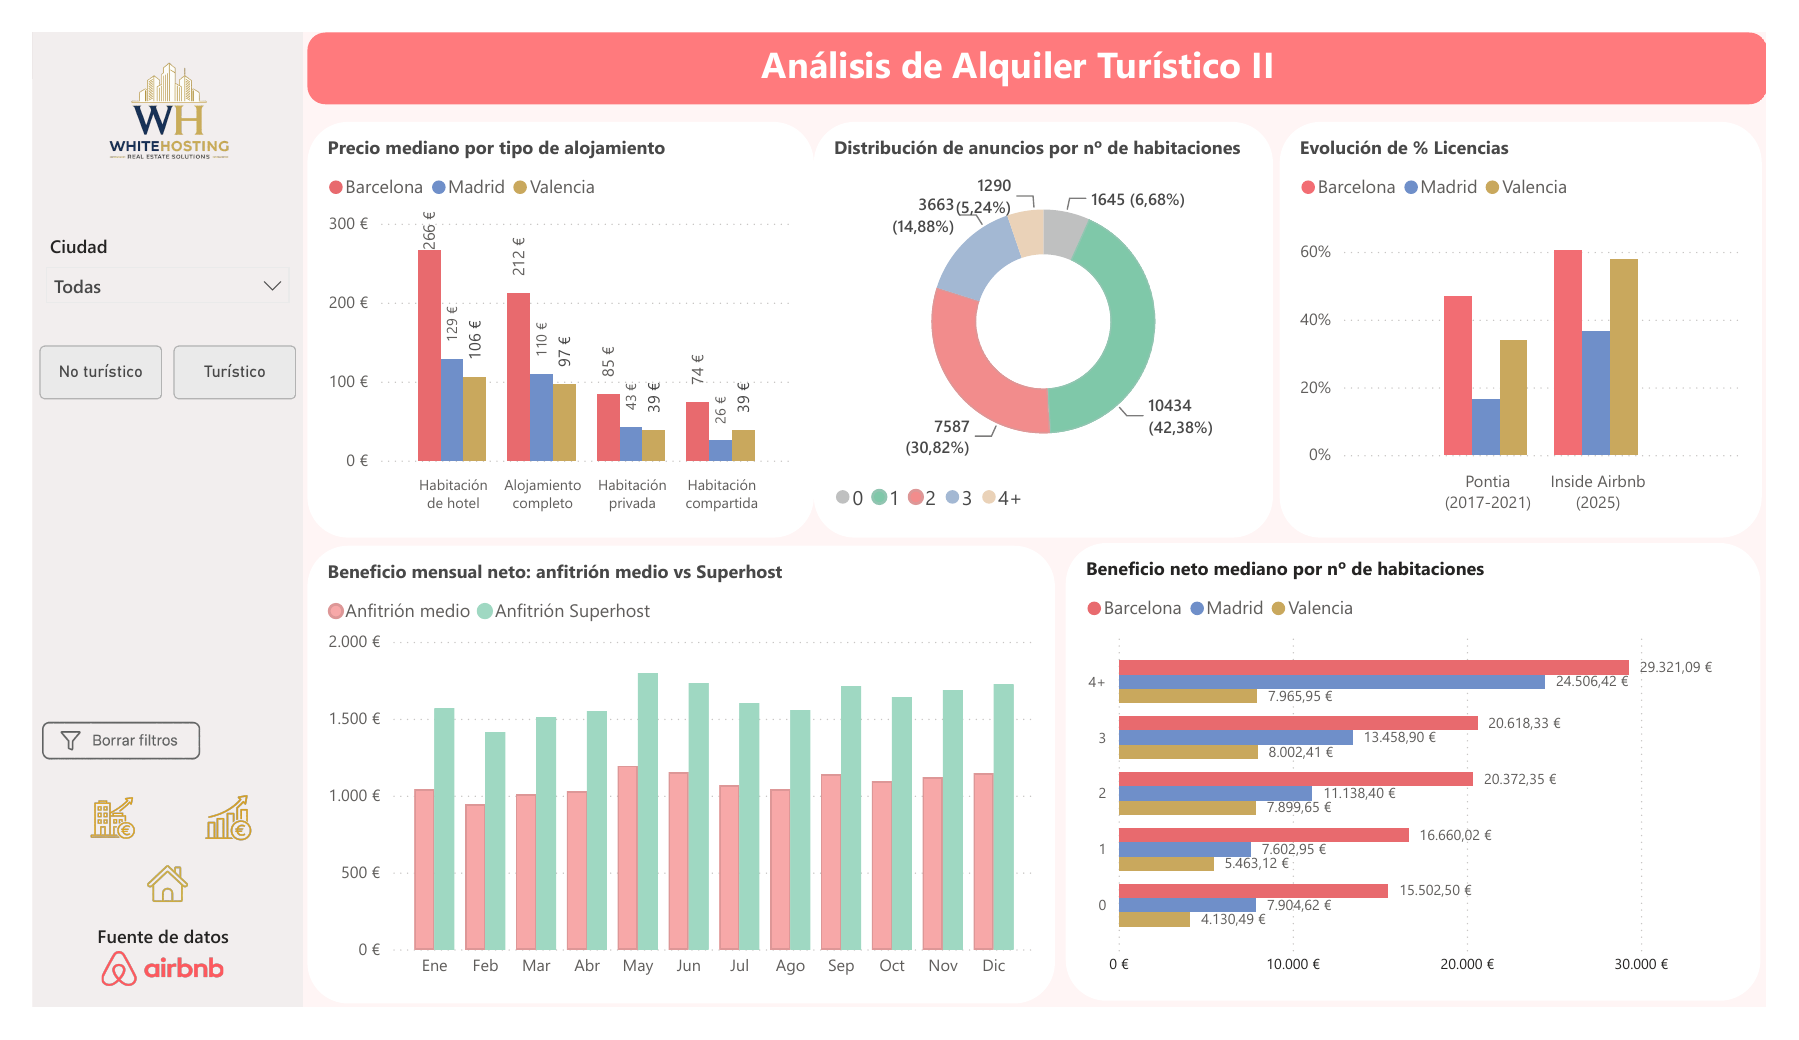

The dashboard page shown, as its layout file describes it:
{"tool":"powerbi","page":{"name":"Alquiler II","canvas":[1280,720],"ordinal":5},"visuals":[{"type":"shape","box":[203.1,0,1077.4,52.7],"z":0},{"type":"clusteredColumnChart","title":"Precio mediano por tipo de alojamiento","fields":{"Category":["precio_por_tipo_ciudad_pbi.tipo_alojamiento"],"Y":["Avg(precio_por_tipo_ciudad_pbi.precio_mediano)"],"Series":["Ciudades.Ciudad"]},"box":[202.8,66.2,374.1,306.9],"z":1000},{"type":"clusteredColumnChart","title":"Beneficio mensual neto: anfitrión medio vs Superhost","fields":{"Series":["beneficio_mensual_ciudad_pbi.escenario"],"Y":["Avg(beneficio_mensual_ciudad_pbi.monthly_revenue_net)"],"Category":["beneficio_mensual_ciudad_pbi.MesCorto"]},"box":[202.8,379.4,551.7,337.3],"z":2000},{"type":"shape","box":[0,0,200.4,720],"z":3000},{"type":"slicer","fields":{"Values":["Ciudades.Ciudad"]},"box":[0.3,144.2,200,77.1],"z":4000},{"type":"advancedSlicerVisual","fields":{"Values":["tabla_barrios_oficial_turísticos_id_mejorado.Barrio Turístico (texto)"]},"box":[0,226.3,200.4,49.9],"z":5000},{"type":"image","box":[1.2,0,199.4,131],"z":6000},{"type":"image","box":[13.9,549.6,87,61.4],"z":7000},{"type":"image","box":[99.7,549.6,89.3,64.9],"z":8000},{"type":"image","box":[52.2,583.2,96.2,95.1],"z":9000},{"type":"image","box":[51.4,678.6,90,25],"z":10000},{"type":"textbox","box":[42.9,653.8,114.3,28.6],"z":11000},{"type":"donutChart","title":"Distribución de anuncios por nº de habitaciones","fields":{"Category":["listing_precio_habitaciones_pbi.HabGrupo"],"Y":["CountNonNull(listing_precio_habitaciones_pbi.id_inmueble)"]},"box":[576.9,66.2,339.4,306.9],"z":12000},{"type":"textbox","box":[188.1,0,1080.1,52.7],"z":13000},{"type":"image","box":[7.2,497.4,117.2,51.8],"z":14000},{"type":"clusteredColumnChart","title":"Evolución de % Licencias","fields":{"Category":["licencias_por_ciudad_pbi.fuente"],"Y":["licencias_por_ciudad_pbi.% Con Licencia"],"Series":["Ciudades.Ciudad"]},"box":[920.6,66.3,356.3,306.9],"z":15000},{"type":"clusteredBarChart","title":"Beneficio neto mediano por nº de habitaciones","fields":{"Series":["Ciudades.Ciudad"],"Y":["listing_precio_habitaciones_pbi.Beneficio Mediano por Habitaciones"],"Category":["listing_precio_habitaciones_pbi.HabGrupo"]},"box":[763,377.3,512.8,337.3],"z":16000}]}

Visuals, with their boxes in screenshot pixels (x1, y1, x2, y2), scaled from the page's 1280x720 canvas onto the 1799x1040 screenshot:
shape: 285,0,1798,76
"Precio mediano por tipo de alojamiento" clusteredColumnChart: 285,96,811,539
"Beneficio mensual neto: anfitrión medio vs Superhost" clusteredColumnChart: 285,548,1060,1035
shape: 0,0,282,1039
slicer - Ciudades.Ciudad: 0,208,282,320
advancedSlicerVisual - tabla_barrios_oficial_turísticos_id_mejorado.Barrio Turístico (texto): 0,327,282,399
image: 2,0,282,189
image: 20,794,142,883
image: 140,794,266,888
image: 73,842,209,980
image: 72,980,199,1016
textbox: 60,944,221,986
"Distribución de anuncios por nº de habitaciones" donutChart: 811,96,1288,539
textbox: 264,0,1782,76
image: 10,718,175,793
"Evolución de % Licencias" clusteredColumnChart: 1294,96,1795,539
"Beneficio neto mediano por nº de habitaciones" clusteredBarChart: 1072,545,1793,1032
